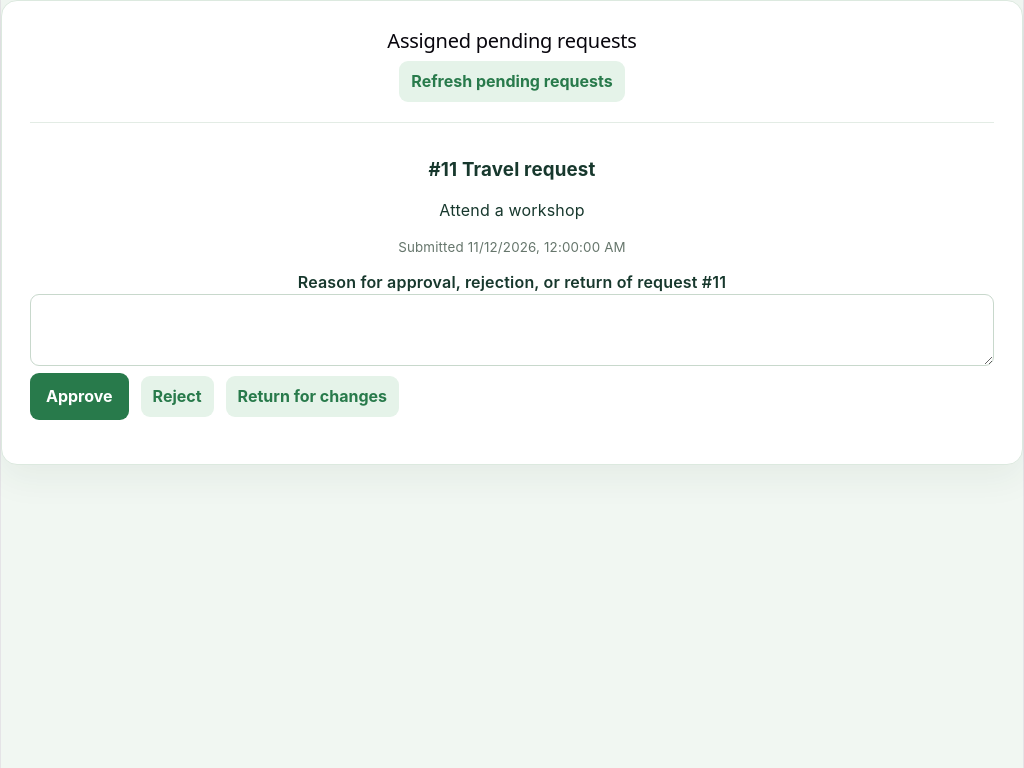
Test: F-03 Reviewer workspace through the application › TEST-F03-UI-STRICT-01: an obsolete GET cannot restore a request after REJECTED
Type "Budget limit exceeded" into the text box labelled "Reason for approval, rejection, or return of request #11" at (512, 330), box [30,294,994,366]
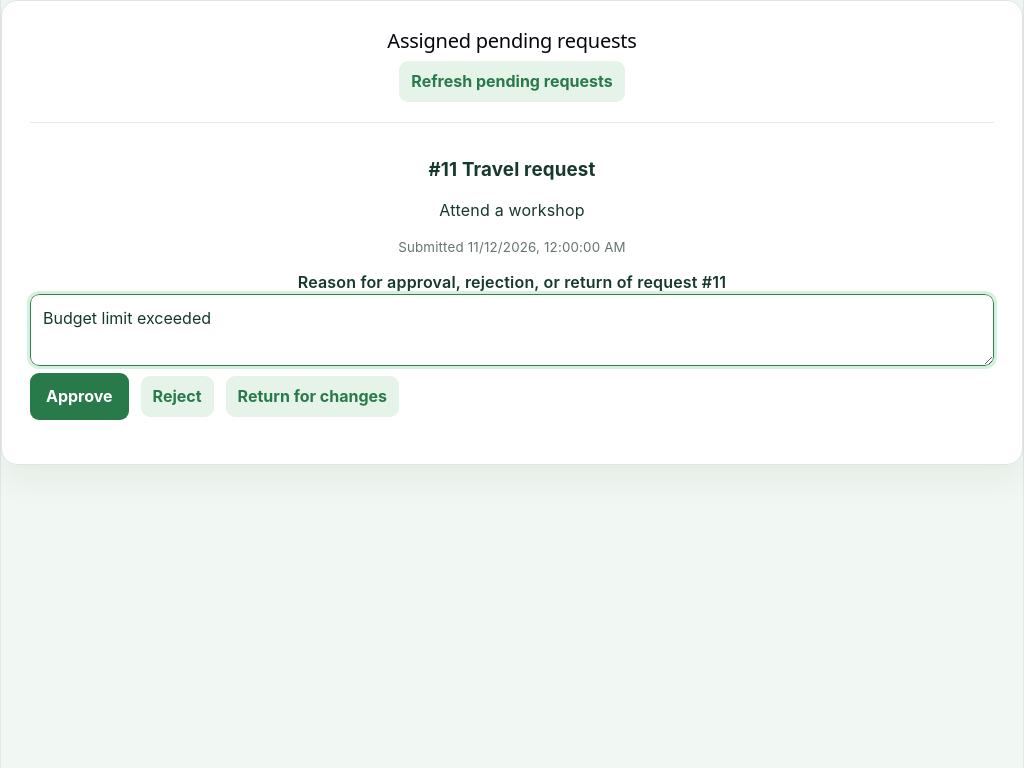
Click the button with aria-label "Reject request #11" at (177, 396), box [141,376,214,417]
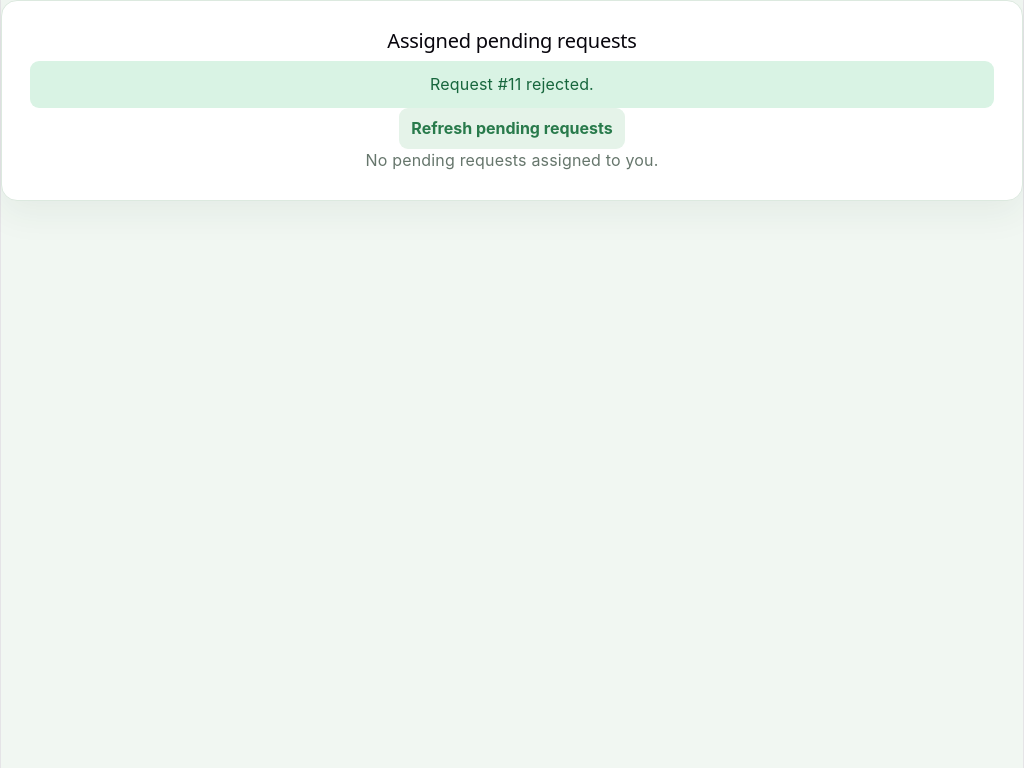
Expected: the text "No pending requests assigned to you." is shown, [366,150,658,170]
Expected: the text "Travel request" is gone
Expected: the message reads "Request #11 rejected.", [430,74,594,94]
